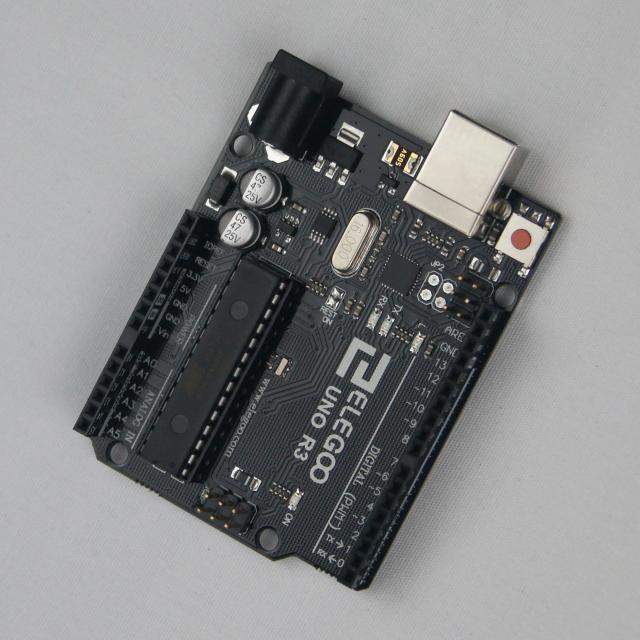Arduino Uno -Black-: (75, 51, 559, 590)
